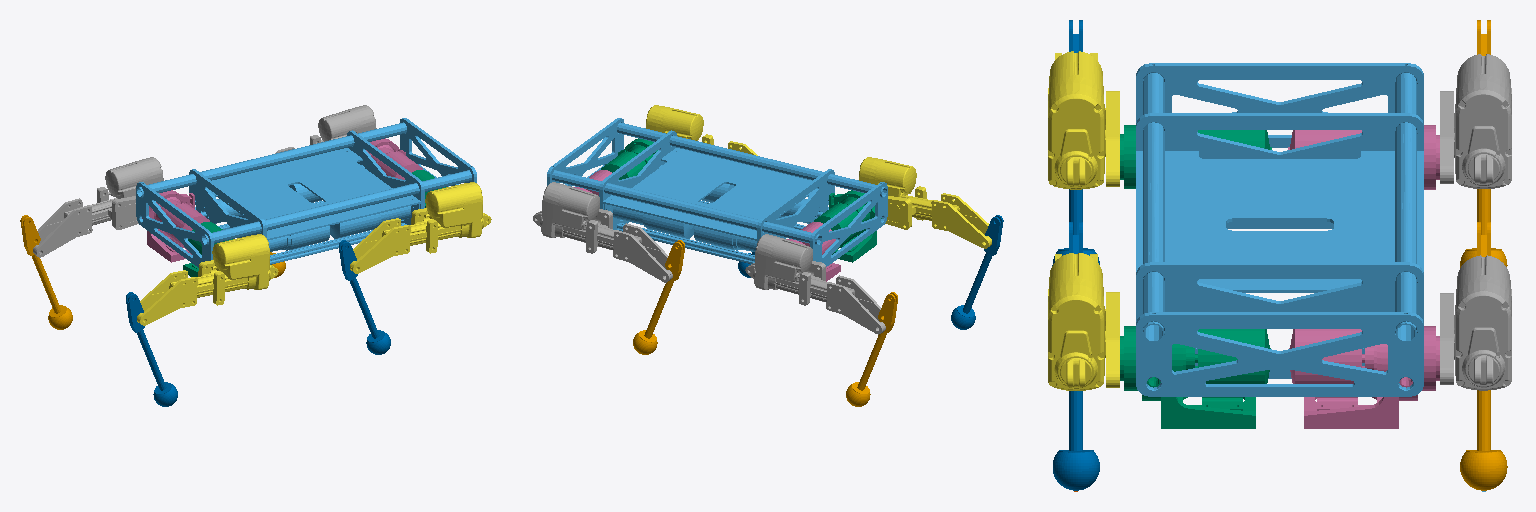
--- What the picture shows (computed from the rendered views, not written in the file) ---
The picture shows the robot from 3 angles, left to right: view 1: azimuth 30°, elevation 25°; view 2: azimuth 150°, elevation 25°; view 3: azimuth 270°, elevation 25°; orthographic projection.
Model popi with 18 links and 17 joints (12 revolute, 5 fixed), rooted at Base_flottante, posed joints at zero except 4 at the middle of their limits (coudeAVD = 1.2, coudeAVG = 1.2, coudeARD = 1.2, coudeARG = 1.2).
Links seen in each view (by area): view 1: Bati, HJambeARD, HJambeAVD, HJambeARG, HJambeAVG, EpauleARG, BJambeARG, BJambeAVD, BJambeARD, EpauleAVG; view 2: Bati, HJambeAVG, HJambeARG, HJambeARD, HJambeAVD, EpauleARD, BJambeARG, BJambeAVG, BJambeARD, EpauleAVD; view 3: Bati, HJambeAVD, HJambeARD, HJambeARG, HJambeAVG, EpauleAVD, EpauleAVG, BJambeAVG, BJambeAVD, EpauleARG, EpauleARD, BJambeARG (+1 smaller).
Boxes of the visible links, box(x1,y1,x2,y2) form: Bati: box(136, 118, 476, 267); HJambeARD: box(137, 234, 278, 325); HJambeAVD: box(350, 182, 491, 273); HJambeARG: box(33, 157, 163, 257); HJambeAVG: box(275, 105, 376, 153); EpauleARG: box(142, 190, 209, 262); BJambeARG: box(20, 215, 72, 329); BJambeAVD: box(339, 240, 390, 354); BJambeARD: box(126, 292, 177, 406); EpauleAVG: box(366, 138, 422, 179); Bati: box(547, 118, 887, 266); HJambeAVG: box(533, 182, 672, 282); HJambeARG: box(745, 234, 885, 334); HJambeARD: box(859, 157, 991, 248); HJambeAVD: box(646, 105, 757, 155); EpauleARD: box(814, 190, 881, 262); BJambeARG: box(846, 292, 897, 406); BJambeAVG: box(633, 240, 684, 354); BJambeARD: box(951, 215, 1003, 329); EpauleAVD: box(601, 138, 657, 179); Bati: box(1136, 63, 1423, 396); HJambeAVD: box(1048, 253, 1119, 390); HJambeARD: box(1048, 51, 1119, 189); HJambeARG: box(1440, 54, 1511, 188); HJambeAVG: box(1440, 255, 1511, 390); EpauleAVD: box(1120, 326, 1270, 428); EpauleAVG: box(1289, 326, 1439, 428); BJambeAVG: box(1460, 222, 1507, 490); BJambeAVD: box(1053, 222, 1099, 490); EpauleARG: box(1288, 125, 1439, 189); EpauleARD: box(1120, 125, 1271, 188); BJambeARG: box(1460, 20, 1507, 267).
Size in the robot's own frame: 1.14 by 0.6443 by 0.4397 metres.
Meshes: 17 distinct files referenced, 17 mesh visuals loaded (17 binary STL).

robot.urdf — popi:
<?xml version="1.0" encoding="utf-8"?>
<!-- This URDF was automatically created by SolidWorks to URDF Exporter! Originally created by Stephen Brawner ([email redacted]) 
     Commit Version: 1.5.1-0-g916b5db  Build Version: 1.5.7152.31018
     For more information, please see http://wiki.ros.org/sw_urdf_exporter -->
<robot name="popi">

<!--**************************************************************************************-->
<!--*************************************** CORPS ****************************************-->
<!--**************************************************************************************-->

	<link name="Base_flottante">
        <visual>
            <origin rpy="0 0 0" xyz="0 0 0"/>
            <geometry>
                <box size="0.001 0.001 0.001"/>
            </geometry>
        </visual>
    </link>

    <joint name="base_flottante" type="fixed">
        <origin rpy="0 0 0" xyz="0 0 0"/>
        <parent link="Base_flottante"/>
        <child link="Bati"/>
    </joint>

  	<link name="Bati">
	    <inertial>
		    <origin xyz="0 0 -0.03523"
		        	rpy="0 0 0" />
		    <mass value="22.934" />
		    <inertia 	ixx="0.38573"  ixy="0"   		ixz="0"
										iyy="0.90692" 	iyz="0"
		        										izz="1.2277" />
	    </inertial>
	    <visual>
		    <origin xyz="0 0 0"
		        	rpy="0 0 0" />
		    <geometry>
		    	<mesh filename="package://popi_description/meshes/Bati.STL" />
		    </geometry>
		    <material name="grey"/>
	    </visual>
	    <collision>
	      	<origin xyz="0 0 0"
	        	  	rpy="0 0 0" />
	      	<geometry>
	        	<mesh filename="package://popi_description/meshes/Bati.STL" />
	      	</geometry>
	    </collision>
  	</link>
  	
<!--**************************************************************************************-->
<!--********************************* JAMBE AVANT-DROITE *********************************-->
<!--**************************************************************************************-->

  	<link name="EpauleAVD">
	    <inertial>
	      	<origin xyz="-0.00137 0.04355 -0.00354"
	        		rpy="0 0 0" />
	     	<mass value="6.775" />
	      	<inertia  	ixx="0.0286" 	ixy="6E-05" 	ixz="-0.00018"
	        							iyy="0.01067" 	iyz="-0.00075"
	        											izz="0.02893" />
	    </inertial>
    	<visual>
      		<origin xyz="0 0 0"
        			rpy="0 0 0" />
	      	<geometry>
	        	<mesh filename="package://popi_description/meshes/EpauleAVD.STL" />
	      	</geometry>
	      	<material name="orange"/>
    	</visual>
    	<collision>
      		<origin xyz="0 0 0"
        			rpy="0 0 0" />
      		<geometry>
        		<mesh filename="package://popi_description/meshes/EpauleAVD.STL" />
      		</geometry>
    	</collision>
  	</link>
  	
  	<link name="HJambeAVD">
    	<inertial>
     		<origin xyz="-0.11331 0.00512 0.01743"
        			rpy="0 0 0" />
      		<mass value="4.895" />
      		<inertia 	ixx="0.00899" 	ixy="0.00215" 	ixz="0.00647"
        								iyy="0.0605"    iyz="-0.00043"
        												izz="0.05703" />
    	</inertial>
    	<visual>
      		<origin xyz="0 0 0"
        			rpy="0 0 0" />
      		<geometry>
        		<mesh filename="package://popi_description/meshes/HJambeAVD.STL" />
      		</geometry>
      		<material name="darkgrey"/>
    	</visual>
    	<collision>
      		<origin xyz="0 0 0"
        			rpy="0 0 0" />
      		<geometry> 
        		<mesh filename="package://popi_description/meshes/HJambeAVD.STL" />
      		</geometry>
    	</collision>
  	</link>
  	
  	<link name="BJambeAVD">
    	<inertial>
      		<origin xyz="0.11761 0 -0.012387"
        			rpy="0 0 0" />
      		<mass value="0.49" />
      		<inertia 	ixx="0.000103" 	ixy="0.000000" 	ixz="-0.00019" 	
      									iyy="0.006798" 	iyz="0"
        												izz="0.006776" />
    	</inertial>
    	<visual>
      		<origin xyz="0 0 0"
        			rpy="0 0 0" />
      		<geometry>
        		<mesh filename="package://popi_description/meshes/BJambeAVD.STL" />
      		</geometry>
      		<material name="white"/>
    	</visual>
    	<collision>
      		<origin xyz="0 0 0"
        			rpy="0 0 0" />
      		<geometry> 
        		<mesh filename="package://popi_description/meshes/BJambeAVD.STL" />
      		</geometry>
    	</collision>
  	</link>
  	
  	<link name="PiedAVD">
    	<inertial>
      		<origin xyz="0.0005 1.1348E-09 -1.2018E-09"
        			rpy="0 0 0" />
      		<mass value="2.5E-05" />
      		<inertia 	ixx="1.0417E-10"	ixy="3.2086E-25"	ixz="2.1003E-26"
        									iyy="5.4167E-11"	iyz="6.3205E-25"
        														izz="5.4167E-11" />
    	</inertial>
    	<visual>
      		<origin xyz="0 0 0"
        	    	rpy="0 0 0" />
      		<geometry>
        		<mesh filename="package://popi_description/meshes/PiedAVD.STL" />
      		</geometry>
      		<material name="white"/>
    	</visual>
    	<collision>
      		<origin xyz="0 0 0"
        	  		rpy="0 0 0" />
      		<geometry>
        		<mesh filename="package://popi_description/meshes/PiedAVD.STL" />
      		</geometry>
    	</collision>
  	</link>
    
<!--**************************************************************************************-->
<!--********************************* JAMBE AVANT-GAUCHE *********************************-->
<!--**************************************************************************************-->

    <link name="EpauleAVG">
    	<inertial>
      		<origin xyz="-0.00137 -0.04355 -0.00354"
        			rpy="0 0 0" />
      		<mass value="6.775" />
      		<inertia 	ixx="0.02864" 	ixy="-6E-05"	ixz="-0.00018"
        								iyy="0.01067"	iyz="0.00075"
        												izz="0.02893" />
    	</inertial>
    	<visual>
      		<origin xyz="0 0 0"
        			rpy="0 0 0" />
     		 <geometry> 
       			<mesh filename="package://popi_description/meshes/EpauleAVG.STL" />
      		</geometry>
      		<material name="orange"/>
    	</visual>
    	<collision>
      		<origin xyz="0 0 0"
        			rpy="0 0 0" />
      		<geometry>
        		<mesh filename="package://popi_description/meshes/EpauleAVG.STL" />
      		</geometry>
    	</collision>
  	</link>
	
	<link name="HJambeAVG">
	    <inertial>
	      	<origin xyz="-0.11389 -0.00555 0.00901"
	        		rpy="0 0 0" />
	      	<mass value="4.955" />
	      	<inertia 	ixx="0.01032" 	ixy="-0.00226" 	ixz="0.01011"
	        							iyy="0.06056" 	iyz="0.00025"
	        											izz="0.05596" />
	    </inertial>
	    <visual>
	     	<origin xyz="0 0 0"
	        		rpy="0 0 0" />
	      	<geometry>
	        	<mesh filename="package://popi_description/meshes/HJambeAVG.STL" />
	      	</geometry>
	      	<material name="darkgrey"/>
	    </visual>
	    <collision>
	      	<origin xyz="0 0 0"
	        		rpy="0 0 0" />
	      		<geometry>
	        		<mesh filename="package://popi_description/meshes/HJambeAVG.STL" />
	      		</geometry>
	    </collision>
	</link>
	
	<link name="BJambeAVG">
	    <inertial>
	      	<origin xyz="0.11761 0 -0.012387"
	        		rpy="0 0 0" />
	      	<mass value="0.49" />
	      	<inertia 	ixx="0.000103" 	ixy="0.000000" 	ixz="-0.00019" 	
      									iyy="0.006798" 	iyz="0"
        												izz="0.006776" />
	    </inertial>
	    <visual>
	      	<origin xyz="0 0 0"
        		  	rpy="0 0 0" />
	      	<geometry>
	        	<mesh filename="package://popi_description/meshes/BJambeAVG.STL" />
	      	</geometry>
	      	<material name="white"/>
	    </visual>
	    <collision>
	      	<origin xyz="0 0 0"
        		  	rpy="0 0 0" />
	      	<geometry>
	        	<mesh filename="package://popi_description/meshes/BJambeAVG.STL" />
	      	</geometry>
	    </collision>
	</link>

	<link name="PiedAVG">
    	<inertial>
      		<origin xyz="0.0005 -3.5068E-06 -4.4931E-09"
        	  		rpy="0 0 0" />
      		<mass value="2.5E-05" />
      		<inertia 		ixx="1.0417E-10" 	ixy="4.4849E-25" 	ixz="1.454E-25"
        										iyy="5.4167E-11" 	iyz="6.3205E-25"
        															izz="5.4167E-11" />
    	</inertial>
	    <visual>
	    	<origin xyz="0 0 0"
	        	  	rpy="0 0 0" />
	    	<geometry>
	        	<mesh filename="package://popi_description/meshes/PiedAVG.STL" />
	      	</geometry>
	      	<material name="white"/>
	    </visual>
	    <collision>
	      	<origin xyz="0 0 0"
	        	  	rpy="0 0 0" />
	      	<geometry>
	        	<mesh filename="package://popi_description/meshes/PiedAVG.STL" />
	      	</geometry>
    	</collision>
  	</link>

<!--**************************************************************************************-->
<!--******************************** JAMBE ARRIERE-DROITE ********************************-->
<!--**************************************************************************************-->	
	<link name="EpauleARD">
	    <inertial>
	      	<origin xyz="0.00137 0.04355 -0.00354"
	        		rpy="0 0 0" />
	      	<mass value="6.775" />
	     	<inertia 	ixx="0.02864" 	ixy="-6E-05" 	ixz="1.8E-05"
	        							iyy="0.01067"	iyz="-0.00075"
	        											izz="0.02893" />
	    </inertial>
	    <visual>
	      	<origin xyz="0 0 0"
	        		rpy="0 0 0" />
	        <geometry>
	        	<mesh filename="package://popi_description/meshes/EpauleARD.STL" />
	      	</geometry>
	      	<material name="orange"/>
	    </visual>
	    <collision>
	      	<origin xyz="0 0 0"
	        		rpy="0 0 0" />
	        <geometry>
	        	<mesh filename="package://popi_description/meshes/EpauleARD.STL" />
	      	</geometry>
	    </collision>
	</link>

	<link name="HJambeARD">
	    <inertial>
	     	<origin xyz="-0.11331 0.00512 0.01743"
	        		rpy="0 0 0" /> 
	      	<mass value="4.895" />
	      	<inertia 	ixx="0.00899" 	ixy="0.00215" 	ixz="0.00647"
	        							iyy="0.0605"  	iyz="-0.00043"
	        											izz="0.05703" />
	    </inertial>
	    <visual>
	      	<origin xyz="0 0 0"
	        		rpy="0 0 0" />
	      	<geometry>
	        	<mesh filename="package://popi_description/meshes/HJambeARD.STL" />
	      	</geometry>
	      	<material name="darkgrey"/>
	    </visual>
	    <collision>
	      	<origin xyz="0 0 0"
	        		rpy="0 0 0" />
	      	<geometry>
	        	<mesh filename="package://popi_description/meshes/HJambeARD.STL" />
	      	</geometry>
	    </collision>
	</link>

  	<link name="BJambeARD">
	    <inertial>
	      	<origin xyz="0.11761 0 -0.012387"
	        		rpy="0 0 0" />
	      	<mass value="0.49" />
	      	<inertia 	ixx="0.000103" 	ixy="0.000000" 	ixz="-0.00019" 	
      									iyy="0.006798" 	iyz="0"
        												izz="0.006776" />
	    </inertial>
	    <visual>
	      	<origin xyz="0 0 0"
	        		rpy="0 0 0" />
	      	<geometry> 
	        	<mesh filename="package://popi_description/meshes/BJambeARD.STL" />
	      	</geometry>
	      	<material name="white"/>
	    </visual>
	    <collision>
	      	<origin xyz="0 0 0"
	        		rpy="0 0 0" />
	      	<geometry> 
	        	<mesh filename="package://popi_description/meshes/BJambeARD.STL" />
	      	</geometry>
	    </collision>
  	</link>	

	<link name="PiedARD">
	    <inertial>
	      	<origin xyz="0.0005 -3.0378E-12 -8.2379E-14"
	        		rpy="0 0 0" />
	      	<mass value="2.5E-05" />
	    	<inertia ixx="1.0417E-10"	ixy="-3.7731E-26"	ixz="-1.6964E-25"
	        							iyy="5.4167E-11" 	iyz="1.0234E-25"
	        												izz="5.4167E-11" />
	    </inertial>
	    <visual>
	    	<origin xyz="0 0 0"
	        		rpy="0 0 0" />
	      	<geometry>
	        	<mesh filename="package://popi_description/meshes/PiedARD.STL" />
	      	</geometry>
	      	<material name="white"/>
	    </visual>
	    <collision>
	      	<origin xyz="0 0 0"
	        		rpy="0 0 0" />
	      	<geometry>
	        	<mesh filename="package://popi_description/meshes/PiedARD.STL" />
	      	</geometry>
	    </collision>
	</link>

<!--**************************************************************************************-->
<!--******************************** JAMBE ARRIERE-GAUCHE ********************************-->
<!--**************************************************************************************-->
  	
  	<link name="EpauleARG">
	    <inertial>
	      	<origin xyz="0.00137 -0.04355 -0.00354"
	        		rpy="0 0 0" />
	      	<mass value="6.775" />
	      	<inertia 	ixx="0.02864" 	ixy="6E-05" 	ixz="0.00018"
	        							iyy="0.01067" 	iyz="0.00075"
	        											izz="0.02893" />
	    </inertial>
    	<visual>
      		<origin xyz="0 0 0"
        			rpy="0 0 0" />
      		<geometry> 
        		<mesh filename="package://popi_description/meshes/EpauleARG.STL" />
      		</geometry>
      		<material name="orange"/>
    	</visual>
    	<collision>
      		<origin xyz="0 0 0"
        			rpy="0 0 0" />
      		<geometry> 
        		<mesh filename="package://popi_description/meshes/EpauleARG.STL" />
      		</geometry>
    	</collision>
  	</link>

	<link name="HJambeARG">
	    <inertial>
	      	<origin xyz="-0.11389 -0.00555 0.00901"
	        		rpy="0 0 0" />
	      	<mass value="4.955" />
	      	<inertia 	ixx="0.01032" 	ixy="-0.00226"	ixz="0.01011"
	        							iyy="0.06056"  	iyz="0.00025"
	        											izz="0.05596" />
	    </inertial>
	    <visual> 
	      	<origin xyz="0 0 0"
	        		rpy="0 0 0" />
	     	<geometry>
	        	<mesh filename="package://popi_description/meshes/HJambeARG.STL" />
	      	</geometry>
	      	<material name="darkgrey"/>
	    </visual>
	    <collision>
	      	<origin xyz="0 0 0"
	        		rpy="0 0 0" />
	     	<geometry>
	        	<mesh filename="package://popi_description/meshes/HJambeARG.STL" />
	      	</geometry>
	    </collision>
	</link>

	<link name="BJambeARG">
	    <inertial>
	      	<origin xyz="0.11761 0.0 -0.012387"
	        		rpy="0 0 0" />
	      	<mass value="0.49" />
	      	<inertia ixx="0.000103" 	ixy="0.000000" 	ixz="-0.00019" 	
      									iyy="0.006798" 	iyz="0"
        												izz="0.006776" />
	    </inertial>
	    <visual>
	      	<origin xyz="0 0 0"
	        		rpy="0 0 0" />
	      	<geometry>
	        	<mesh filename="package://popi_description/meshes/BJambeARG.STL" />
	      	</geometry>
	      	<material name="white"/>
	    </visual>
	    <collision>
	      	<origin xyz="0 0 0"
	        		rpy="0 0 0" />
	      	<geometry>
	        	<mesh filename="package://popi_description/meshes/BJambeARG.STL" />
	      	</geometry>
	    </collision>
	</link>

	<link name="PiedARG">
	    <inertial>
	      	<origin xyz="0.0005 -3.5073E-06 5.5511E-14"
	        		rpy="0 0 0" />
	      	<mass value="2.5E-05" />
	      	<inertia ixx="1.0417E-10" 	ixy="6.1999E-25" 	ixz="-9.8551E-26"
	        							iyy="5.4167E-11" 	iyz="-1.1985E-25"
	        												izz="5.4167E-11" />
	    </inertial>
	    <visual>
	      	<origin xyz="0 0 0"
	        		rpy="0 0 0" />
	      	<geometry>
	        	<mesh filename="package://popi_description/meshes/PiedARG.STL" />
	      	</geometry>
	      	<material name="white"/>
	    </visual>
	    <collision>
	      	<origin xyz="0 0 0"
	        		rpy="0 0 0" />
	      	<geometry>
	        	<mesh filename="package://popi_description/meshes/PiedARG.STL" />
	      	</geometry>
	    </collision>
	</link>

<!--**************************************************************************************-->
<!--********************************* JOINTS AVANT-DROITS ********************************-->
<!--**************************************************************************************-->

  	<joint name="aileAVD" type="revolute">
    	<origin xyz="0.3305 -0.175 -0.051"
      			rpy="0 0 0" />
    	<parent link="Bati" />
    	<child  link="EpauleAVD" />
    	<axis   xyz="-1 0 0" />
    	<limit  lower="-0.4"
      			upper="0.4"
      			effort="120"
      			velocity="3.14159" />
	</joint>

	<joint name="epauleAVD" type="revolute">
	    <origin xyz="0 -0.1077 0"
	      		rpy="0 0 0" />
	    <parent link="EpauleAVD" />
	    <child  link="HJambeAVD" />
	    <axis   xyz="0 -1 0" />
	    <limit  lower="0"
	      		upper="3.14159"
	      		effort="122"
	      		velocity="2.87" />
  	</joint>

  	<joint name="coudeAVD" type="revolute">
	    <origin xyz="-0.35192 0 -0.041509"
	      		rpy="0 0 0" />
	    <parent link="HJambeAVD" />
	    <child  link="BJambeAVD" />
	    <axis   xyz="0 1 0" />
	    <limit  lower="0.2"
	      		upper="2.2"
	      		effort="1000"
	      		velocity="3.14159" />
  	</joint>

  	<joint name="piedAVD" type="fixed">
	    <origin xyz="0.29604 0 -0.015"
	      		rpy="0 0 0" />
	    <parent link="BJambeAVD" />
	    <child 	link="PiedAVD" />
	    <axis 	xyz="0 0 0" />
  	</joint>

<!--**************************************************************************************-->
<!--******************************** JOINTS AVANT-GAUCHES ********************************-->
<!--**************************************************************************************-->

	<joint name="aileAVG" type="revolute">
	    <origin xyz="0.3305 0.175 -0.051"
	      		rpy="0 0 0" />
	    <parent link="Bati" />
	    <child  link="EpauleAVG" />
	    <axis   xyz="1 0 0" />
	    <limit  lower="-0.4"
	      		upper="0.4"
	      		effort="120"
	      		velocity="3.14159" />
	</joint>

	<joint name="epauleAVG" type="revolute">
	    <origin xyz="0 0.1077 0"
	      		rpy="0 0 0" />
	    <parent link="EpauleAVG" />
	    <child  link="HJambeAVG" />
	    <axis   xyz="0 -1 0" />
	    <limit  lower="0"
	      		upper="3.14159"
	      		effort="122"
	      		velocity="2.87" />
  	</joint>

  	<joint name="coudeAVG" type="revolute">
	    <origin xyz="-0.35192 0 -0.041509"
	      		rpy="0 0 0" />
	    <parent link="HJambeAVG" />
	    <child  link="BJambeAVG" />
	    <axis   xyz="0 1 0" />
	    <limit  lower="0.2"
	      		upper="2.2"
	      		effort="1000"
	      		velocity="3.14159" />
  	</joint>

  	<joint name="piedAVG" type="fixed">
    	<origin xyz="0.29604 0 -0.015"
      			rpy="0 0 0" />
	    <parent link="BJambeAVG" />
	    <child 	link="PiedAVG" />
	    <axis 	xyz="0 0 0" />
  	</joint>

<!--**************************************************************************************-->
<!--******************************* JOINTS ARRIERE-DROITS ********************************-->
<!--**************************************************************************************-->

	<joint  name="aileARD"  type="revolute">
	    <origin xyz="-0.3305 -0.175 -0.051"
	      		rpy="0 0 0" />
	    <parent link="Bati" />
	    <child  link="EpauleARD" />
	    <axis   xyz="-1 0 0" />
	    <limit  lower="-0.4"
	      		upper="0.4"
	      		effort="120"
	      		velocity="3.14159" />
	</joint>
	<joint name="epauleARD" type="revolute">
	    <origin xyz="0 -0.1077 0"
	      		rpy="0 0 0" />
	    <parent link="EpauleARD" />
	    <child  link="HJambeARD" />
	    <axis   xyz="0 -1 0" />
	    <limit  lower="0"
	      		upper="3.14159"
	      		effort="122"
	      		velocity="2.87" />
	</joint>
	<joint name="coudeARD" type="revolute">
	    <origin xyz="-0.35192 0 -0.041509"
	      		rpy="0 0 0" />
	    <parent link="HJambeARD" />
	    <child  link="BJambeARD" />
	    <axis   xyz="0 1 0" />
	    <limit  lower="0.2"
	      		upper="2.2"
	      		effort="1000"
	      		velocity="3.14159" />
	</joint>

	<joint name="piedARD" type="fixed">
	    <origin xyz="0.29604 0 -0.015"
	      		rpy="0 0 0" />
	    <parent link="BJambeARD" />
	    <child 	link="PiedARD" />
	    <axis 	xyz="0 0 0" />
  	</joint>

<!--**************************************************************************************-->
<!--****************************** JOINTS ARRIERE-GAUCHES ********************************-->
<!--**************************************************************************************-->

	<joint name="aileARG" type="revolute">
    	<origin xyz="-0.3305 0.175 -0.051"
      			rpy="0 0 0" />
    	<parent link="Bati" />
	    <child  link="EpauleARG" />
	    <axis   xyz="1 0 0" />
	    <limit  lower="-0.4"
	      		upper="0.4"
	      		effort="120"
	      		velocity="3.14159" />
  	</joint>
  	<joint name="epauleARG" type="revolute">
	    <origin xyz="0 0.1077 0"
	      		rpy="0 0 0" />
	    <parent link="EpauleARG" />
	    <child  link="HJambeARG" />
	    <axis   xyz="0 -1 0" />
	    <limit  lower="0"
	      		upper="3.14159"
	      		effort="122"
	      		velocity="2.87" />
  	</joint>
	<joint name="coudeARG" type="revolute">
		<origin xyz="-0.35192 0 -0.041509"
		  		rpy="0 0 0" />
		<parent link="HJambeARG" />
		<child  link="BJambeARG" />
		<axis   xyz="0 1 0" />
		<limit  lower="0.2"
		   		upper="2.2"
		   		effort="1000"
		   		velocity="3.14159" />
	</joint>

	<joint name="piedARG" type="fixed">
	    <origin xyz="0.29604 0 -0.015"
	      		rpy="0 0 0" />
	    <parent link="BJambeARG" />
	    <child 	link="PiedARG" />
	    <axis 	xyz="0 0 0" />
	</joint>

<!--**************************************************************************************-->
<!--********************************** PLUGINS GAZEBO ************************************-->
<!--**************************************************************************************-->	
  	<gazebo>
    	<plugin name="gazebo_ros_control" filename="libgazebo_ros_control.so">
      		<robotNamespace>/popi</robotNamespace>
      		<!--<robotSimType>gazebo_ros_control/DefaultRobotHWSim</robotSimType>-->
    	</plugin>
  	</gazebo>

<!--**************************************************************************************-->
<!--***************************** TRANSMISSIONS AVANT-DROITES ****************************-->
<!--**************************************************************************************-->

  	<transmission name="aileAVD_tran">
    	<type>transmission_interface/SimpleTransmission</type>
    	<joint name="aileAVD">
      		<hardwareInterface>hardware_interface/EffortJointInterface</hardwareInterface>
    	</joint>
    	<actuator name="aileAVD_moteur">
      		<mechanicalReduction>1</mechanicalReduction>
    	</actuator>
  	</transmission>

  	<transmission name="epauleAVD_tran">
    	<type>transmission_interface/SimpleTransmission</type>
    	<joint name="epauleAVD">
      		<hardwareInterface>hardware_interface/EffortJointInterface</hardwareInterface>
    	</joint>
    	<actuator name="epauleAVD_moteur">
      		<mechanicalReduction>100</mechanicalReduction>
    	</actuator>
  	</transmission>

  	<transmission name="coudeAVD_tran">
    	<type>transmission_interface/SimpleTransmission</type>
    	<joint name="coudeAVD">
      		<hardwareInterface>hardware_interface/EffortJointInterface</hardwareInterface>
    	</joint>
    	<actuator name="coudeAVD_moteur">
      		<mechanicalReduction>1</mechanicalReduction>
    	</actuator>
  	</transmission>

<!--**************************************************************************************-->
<!--***************************** TRANSMISSIONS AVANT-GAUCHES ****************************-->
<!--**************************************************************************************-->

    <transmission name="aileAVG_tran">
    	<type>transmission_interface/SimpleTransmission</type>
    	<joint name="aileAVG">
      		<hardwareInterface>hardware_interface/EffortJointInterface</hardwareInterface>
    	</joint>
    	<actuator name="aileAVG_moteur">
      		<mechanicalReduction>1</mechanicalReduction>
    	</actuator>
  	</transmission>

  	<transmission name="epauleAVG_tran">
    	<type>transmission_interface/SimpleTransmission</type>
    	<joint name="epauleAVG">
      		<hardwareInterface>hardware_interface/EffortJointInterface</hardwareInterface>
    	</joint>
    	<actuator name="epauleAVG_moteur">
      		<mechanicalReduction>100</mechanicalReduction>
    	</actuator>
  	</transmission>

  	<transmission name="coudeAVG_tran">
    	<type>transmission_interface/SimpleTransmission</type>
    	<joint name="coudeAVG">
      		<hardwareInterface>hardware_interface/EffortJointInterface</hardwareInterface>
    	</joint>
    	<actuator name="coudeAVG_moteur">
      		<mechanicalReduction>1</mechanicalReduction>
    	</actuator>
  	</transmission>

<!--**************************************************************************************-->
<!--**************************** TRANSMISSIONS ARRIERE-DROITES ***************************-->
<!--**************************************************************************************-->

    <transmission name="aileARD_tran">
    	<type>transmission_interface/SimpleTransmission</type>
    	<joint name="aileARD">
      		<hardwareInterface>hardware_interface/EffortJointInterface</hardwareInterface>
    	</joint>
    	<actuator name="aileARD_moteur">
      		<mechanicalReduction>1</mechanicalReduction>
    	</actuator>
  	</transmission>

  	<transmission name="epauleARD_tran">
    	<type>transmission_interface/SimpleTransmission</type>
    	<joint name="epauleARD">
      		<hardwareInterface>hardware_interface/EffortJointInterface</hardwareInterface>
    	</joint>
    	<actuator name="epauleARD_moteur">
      		<mechanicalReduction>100</mechanicalReduction>
    	</actuator>
  	</transmission>

  	<transmission name="coudeARD_tran">
    	<type>transmission_interface/SimpleTransmission</type>
    	<joint name="coudeARD">
      		<hardwareInterface>hardware_interface/EffortJointInterface</hardwareInterface>
    	</joint>
    	<actuator name="coudeARD_moteur">
      		<mechanicalReduction>1</mechanicalReduction>
    	</actuator>
  	</transmission>

<!--**************************************************************************************-->
<!--**************************** TRANSMISSIONS ARRIERE-GAUCHES ***************************-->
<!--**************************************************************************************-->

    <transmission name="aileARG_tran">
    	<type>transmission_interface/SimpleTransmission</type>
    	<joint name="aileARG">
      		<hardwareInterface>hardware_interface/EffortJointInterface</hardwareInterface>
    	</joint>
    	<actuator name="aileARG_moteur">
      		<mechanicalReduction>1</mechanicalReduction>
    	</actuator>
  	</transmission>

  	<transmission name="epauleARG_tran">
    	<type>transmission_interface/SimpleTransmission</type>
    	<joint name="epauleARG">
      		<hardwareInterface>hardware_interface/EffortJointInterface</hardwareInterface>
    	</joint>
    	<actuator name="epauleARG_moteur">
      		<mechanicalReduction>100</mechanicalReduction>
    	</actuator>
  	</transmission>

  	<transmission name="coudeARG_tran">
    	<type>transmission_interface/SimpleTransmission</type>
    	<joint name="coudeARG">
      		<hardwareInterface>hardware_interface/EffortJointInterface</hardwareInterface>
    	</joint>
    	<actuator name="coudeARG_moteur">
      		<mechanicalReduction>1</mechanicalReduction>
    	</actuator>
  	</transmission>

</robot>
